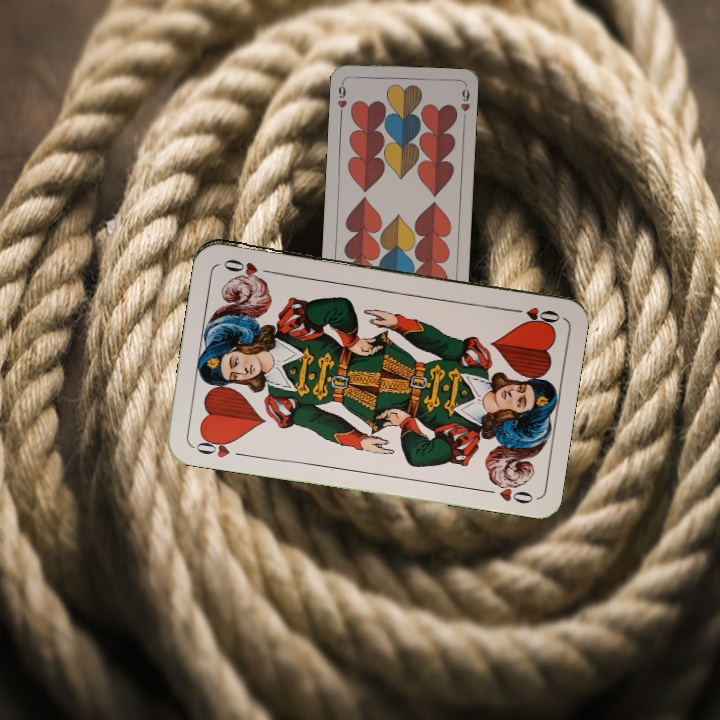H9: (333, 78, 349, 118)
HO: (190, 431, 249, 461), (504, 302, 563, 325)
